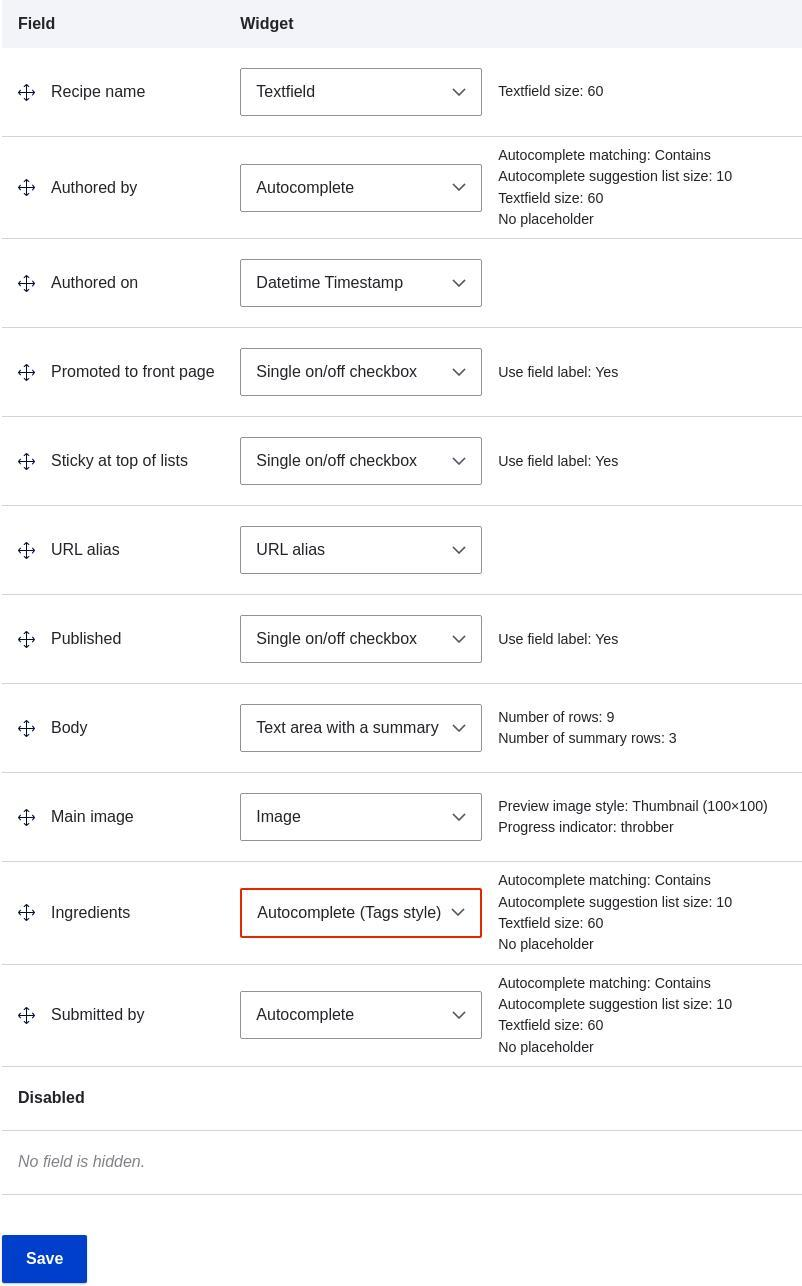button: (1, 1230, 91, 1286)
dropdown: (242, 992, 489, 1046), (241, 704, 483, 754), (242, 889, 483, 938), (242, 164, 483, 212), (240, 69, 483, 116), (240, 795, 483, 842), (241, 261, 483, 308), (241, 349, 483, 396), (241, 439, 483, 486), (242, 528, 483, 575), (240, 617, 483, 661)
label: (494, 867, 739, 953), (496, 977, 741, 1056), (495, 796, 776, 841), (491, 728, 680, 749), (497, 146, 714, 163), (491, 446, 629, 471), (494, 170, 738, 184), (492, 363, 628, 385), (49, 363, 218, 380), (48, 1005, 147, 1028), (49, 452, 195, 467), (497, 631, 618, 649), (48, 177, 145, 199), (498, 708, 626, 724), (494, 191, 611, 208), (497, 85, 609, 102), (49, 83, 148, 102), (17, 1086, 88, 1110), (48, 903, 133, 923), (47, 275, 143, 292), (47, 628, 123, 649), (51, 541, 125, 561), (237, 14, 297, 37), (501, 215, 596, 226), (47, 811, 141, 822), (50, 718, 90, 737), (18, 15, 59, 32)
